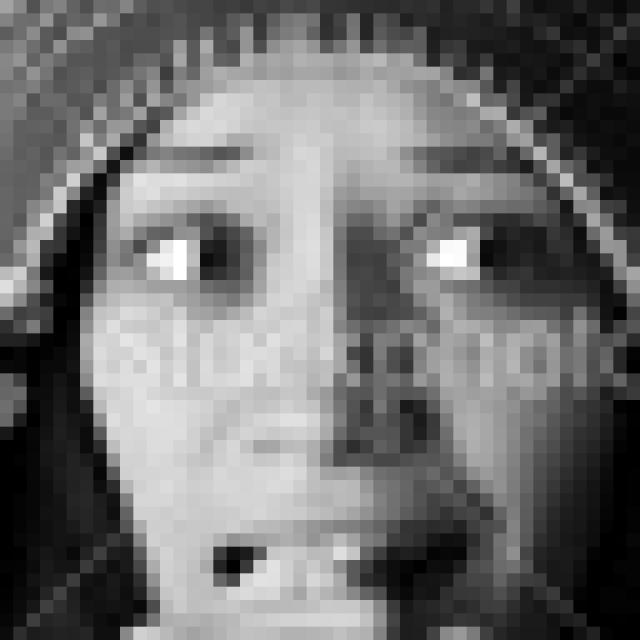fear: (116, 134, 558, 633)
